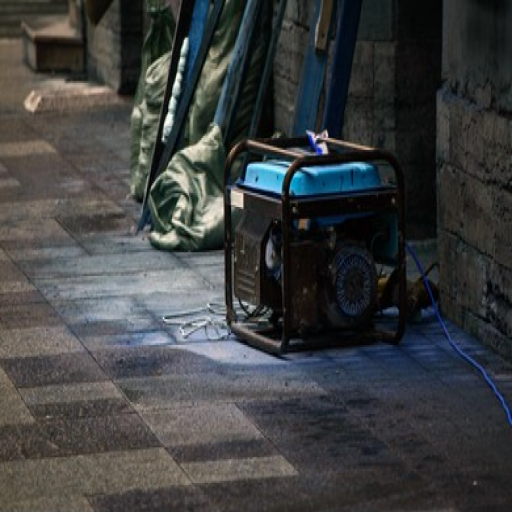portable_generator: (223, 135, 408, 360)
